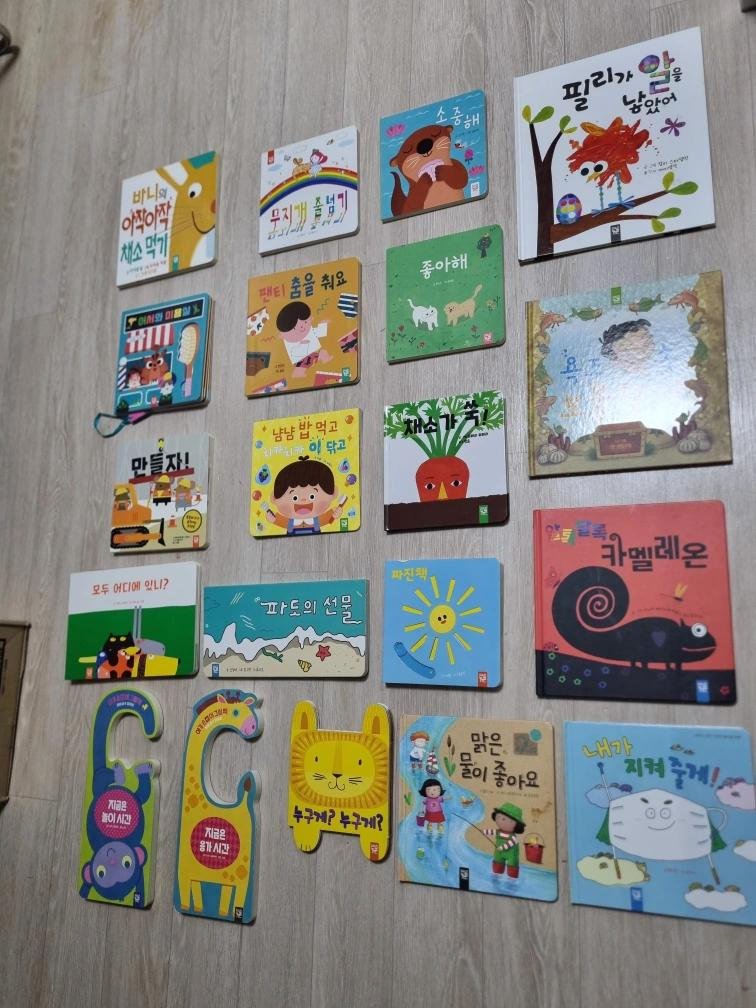book: (512, 25, 717, 264), (532, 499, 737, 705), (563, 719, 755, 927), (395, 714, 558, 903), (382, 390, 509, 532), (201, 578, 368, 679), (63, 560, 201, 682), (244, 256, 360, 398), (381, 557, 502, 689), (378, 88, 488, 223), (249, 407, 361, 538), (115, 149, 218, 289), (257, 125, 360, 256), (108, 432, 211, 555), (113, 293, 211, 420)
